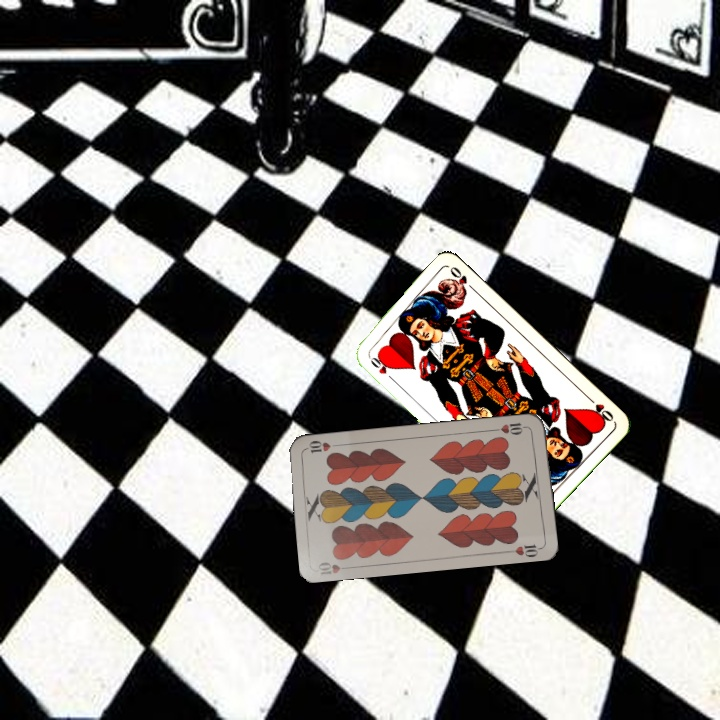H10: (490, 418, 530, 437), (314, 558, 354, 577)
HO: (584, 393, 616, 425), (364, 351, 394, 377)
